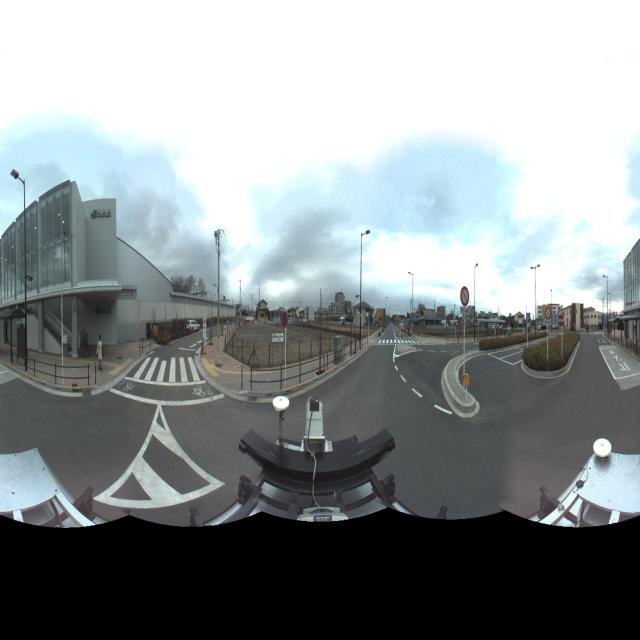b_1: (5, 178, 126, 358), (622, 235, 640, 364), (402, 300, 447, 334), (323, 283, 348, 334), (350, 295, 377, 333), (565, 300, 588, 336)
